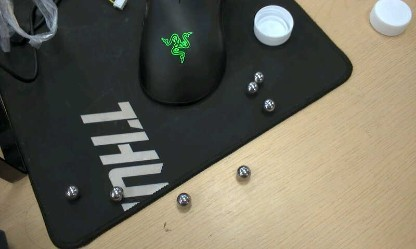ironball: (176, 192, 191, 207), (236, 164, 250, 180), (109, 186, 123, 202), (65, 185, 78, 200), (246, 81, 258, 94), (263, 98, 274, 111), (253, 71, 263, 83)
